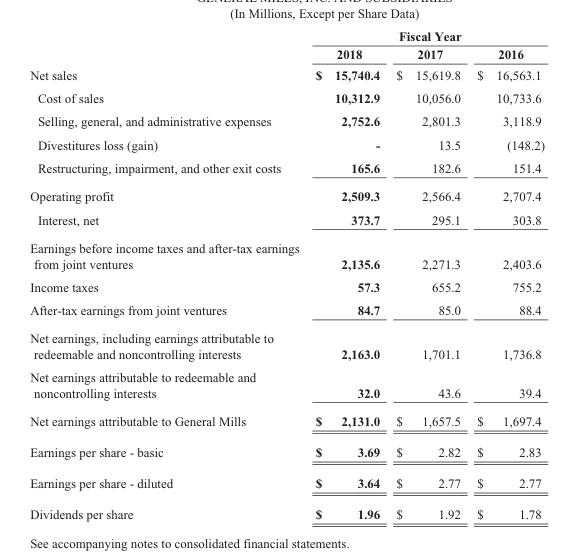table: (29, 28, 543, 521)
table column: (29, 28, 306, 521), (306, 28, 387, 521), (387, 28, 468, 521), (468, 28, 543, 521)
table column header: (29, 28, 543, 64)
table row: (29, 233, 543, 274), (29, 324, 543, 365), (29, 365, 543, 406), (29, 436, 543, 467), (29, 467, 543, 498), (29, 406, 543, 436), (29, 181, 543, 207), (29, 207, 543, 233), (29, 298, 543, 324), (29, 156, 543, 181), (29, 132, 543, 156), (29, 274, 543, 298), (29, 86, 543, 109), (29, 109, 543, 132), (29, 498, 543, 521), (29, 64, 543, 86), (29, 44, 543, 64), (29, 28, 543, 44)
table spanning cell: (306, 28, 543, 44)
